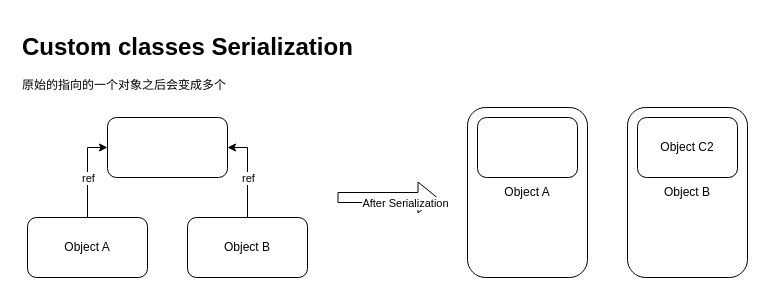
The diagram is 765 pixels wide and 295 high, and some of its shapes have lost their labels. Each missing label, with the centre of its shape:
Object C: the point at 167,147
Object C1: the point at 527,147
